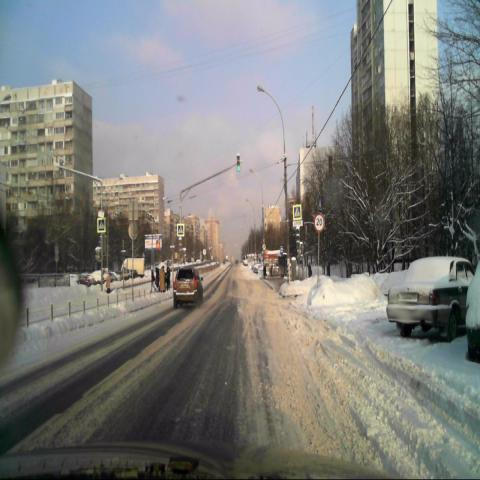3_24: (314, 213, 325, 232)
5_19_1: (98, 217, 106, 234), (293, 205, 302, 220), (176, 222, 184, 236)
